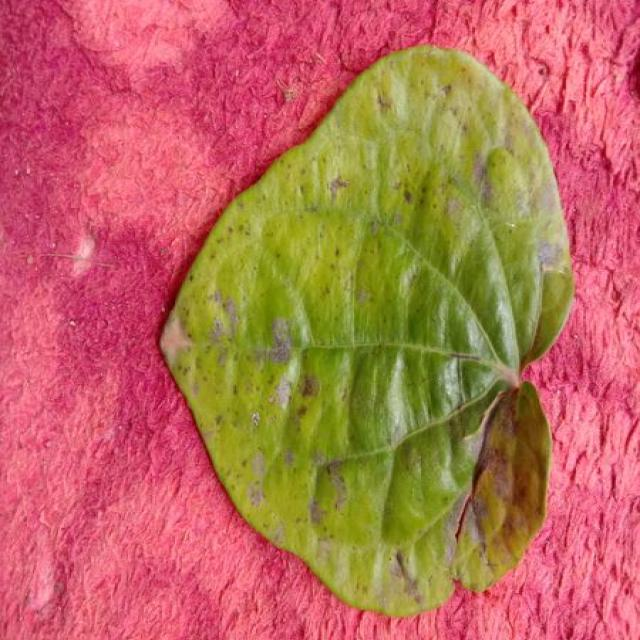defected betel: (162, 46, 572, 615)
